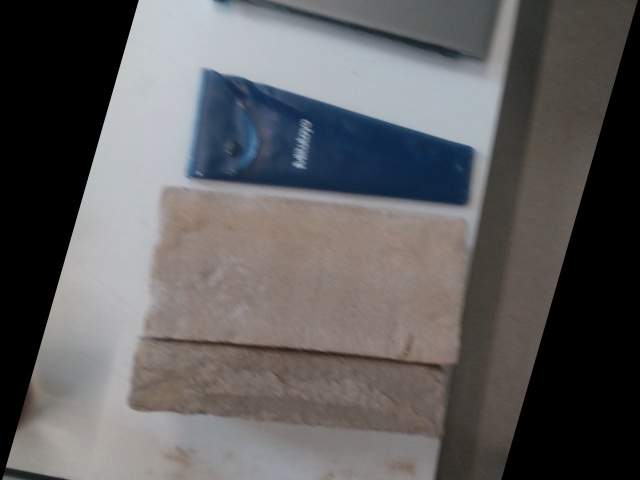brick: (151, 185, 467, 364)
